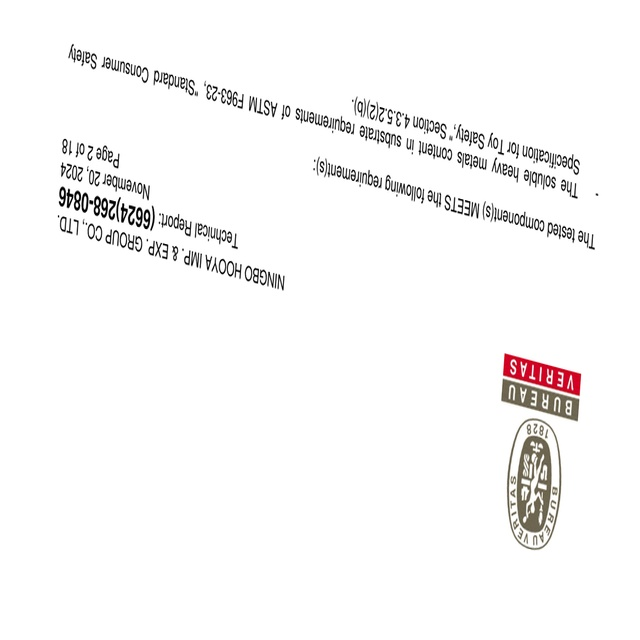bureau_veritas: (496, 351, 582, 552)
